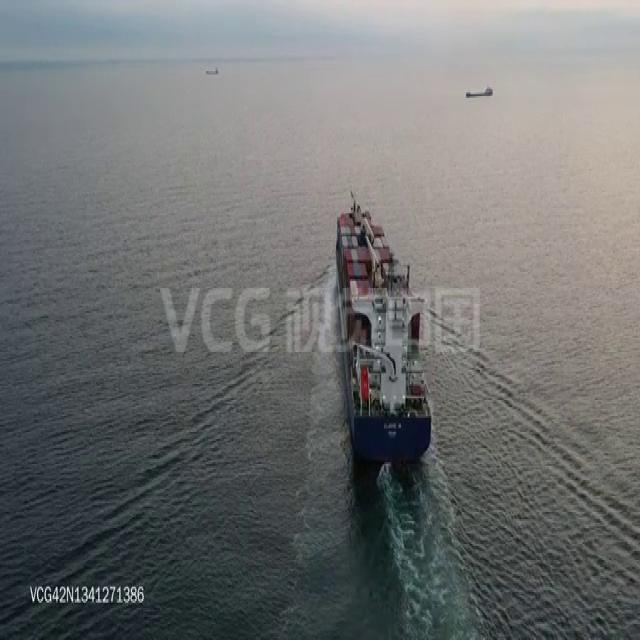cargoship: (332, 188, 432, 472), (464, 78, 494, 104), (201, 64, 221, 76)
